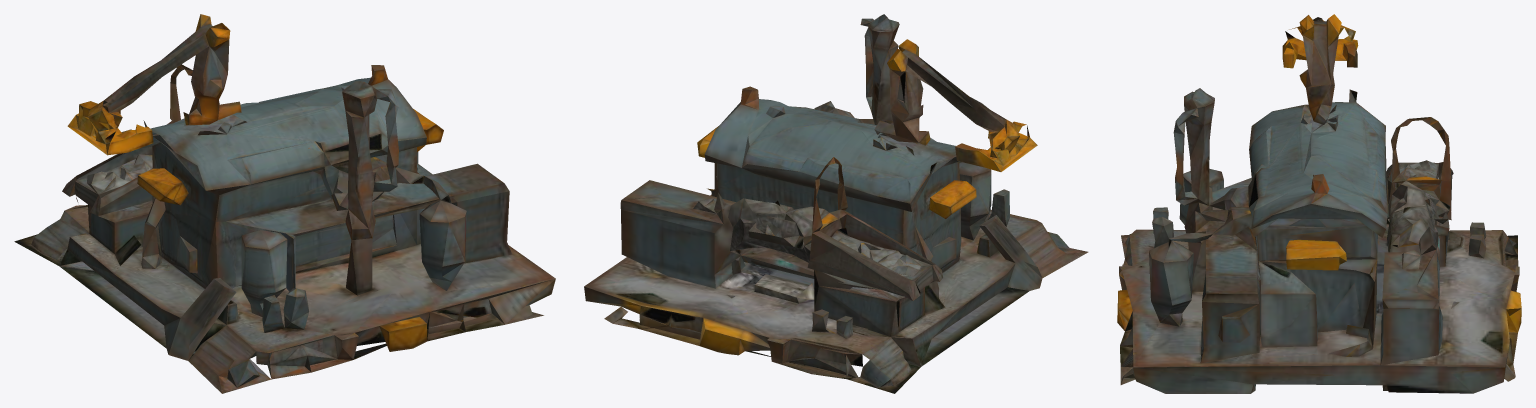
Rendered from facility-recycler.glb.
3 views of the same model, side by side, from view 1: azimuth 30°, elevation 25°; view 2: azimuth 150°, elevation 25°; view 3: azimuth 270°, elevation 25° (orthographic). The views are drawn at different scales.
Size of the model in its own units: 1.9 by 1.35 by 1.88.
Materials: 1 (1 with a texture image).
